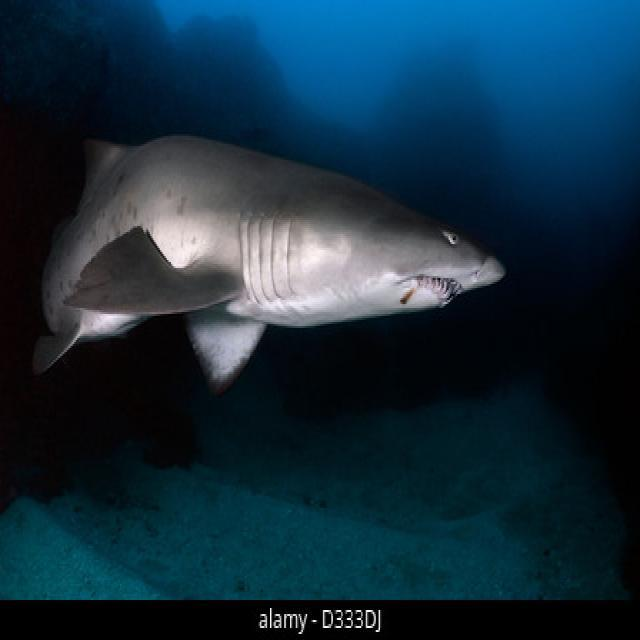Shark: (14, 88, 522, 394)
